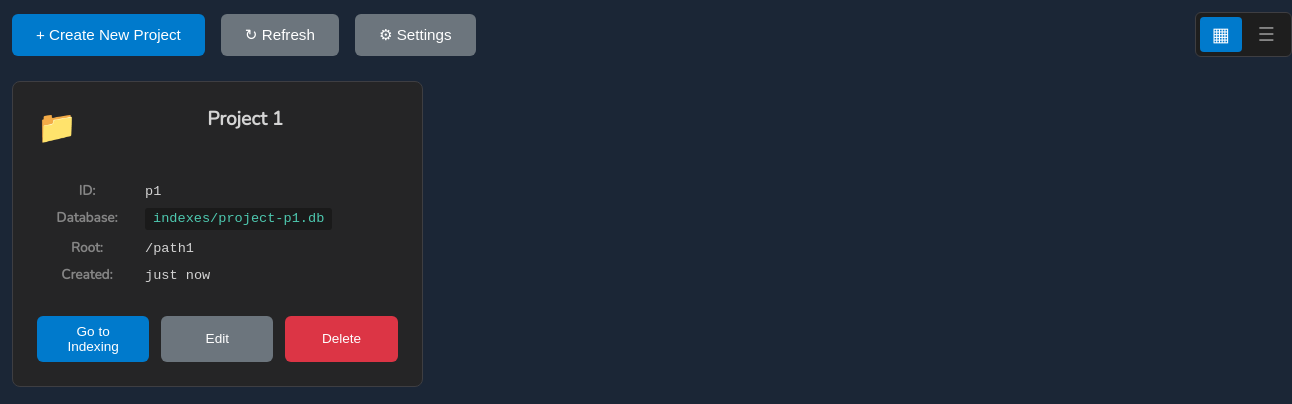
Scenario: ProjectsView.vue › switches to table view when toggle is clicked
Note: Find table view toggle button (second toggle button)
Click the button with class "toggle-btn" showing "☰": (1266, 35) [1246, 17, 1287, 52]
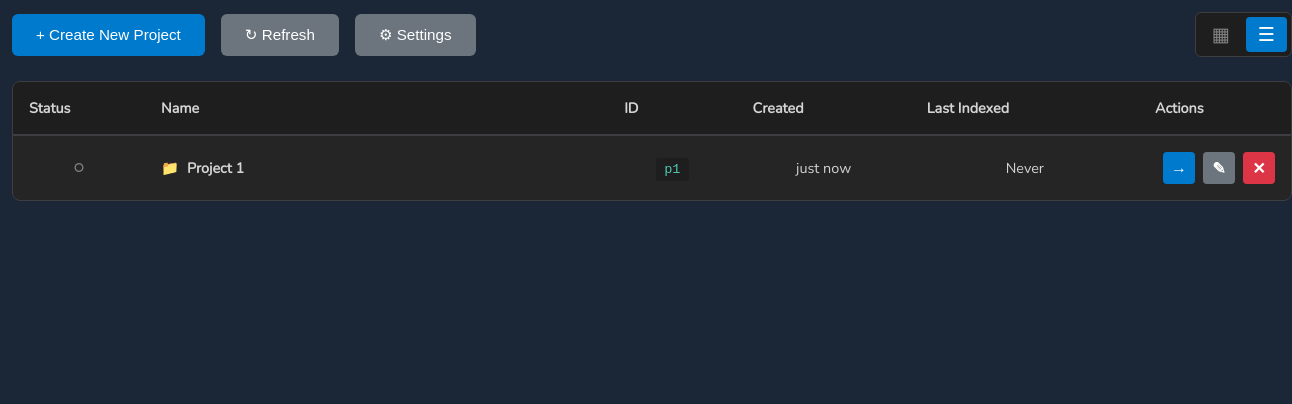
Result: the element that starts with "Status" is shown at [12, 81, 1291, 201]
